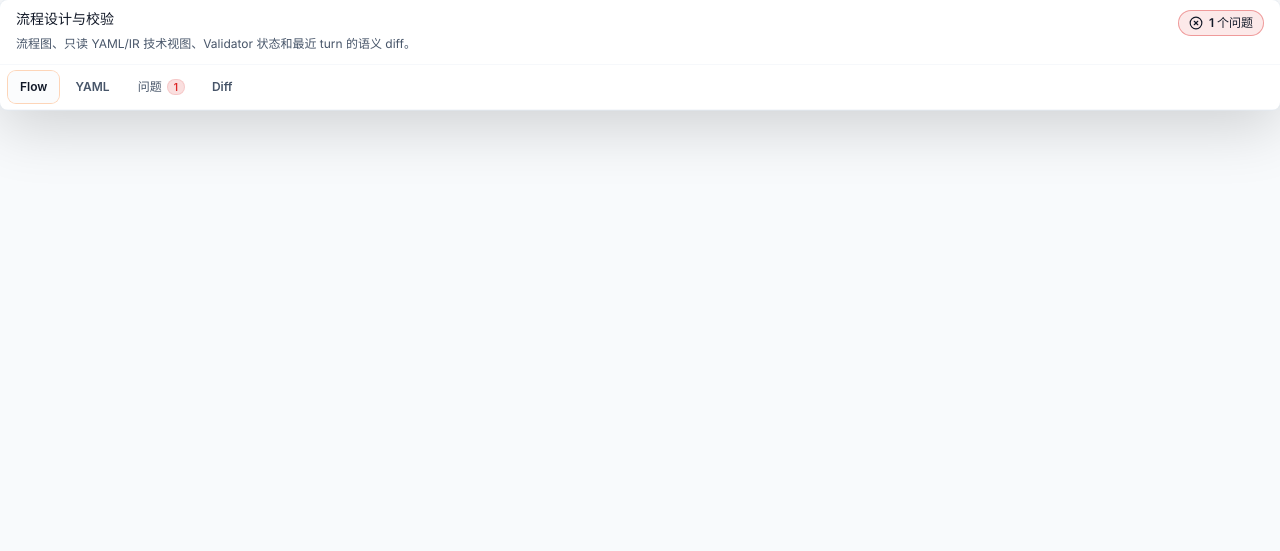
Test: IRColumn › switches between Flow, YAML, Issues, and Diff tabs
Step 1. Click the tab "YAML" → (92, 87), box x1=63 y1=71 x2=122 y2=103
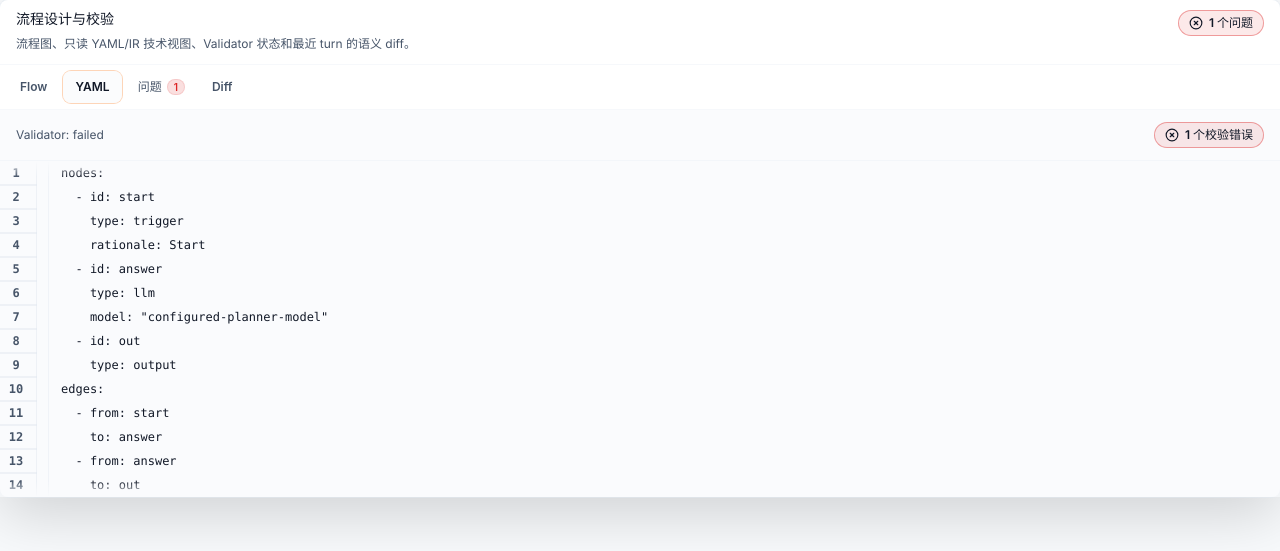
Result: the text "Validator: failed" is shown at x1=16 y1=127 x2=104 y2=143
Step 2. Click the tab "问题 1" → (161, 87), box x1=126 y1=71 x2=196 y2=103
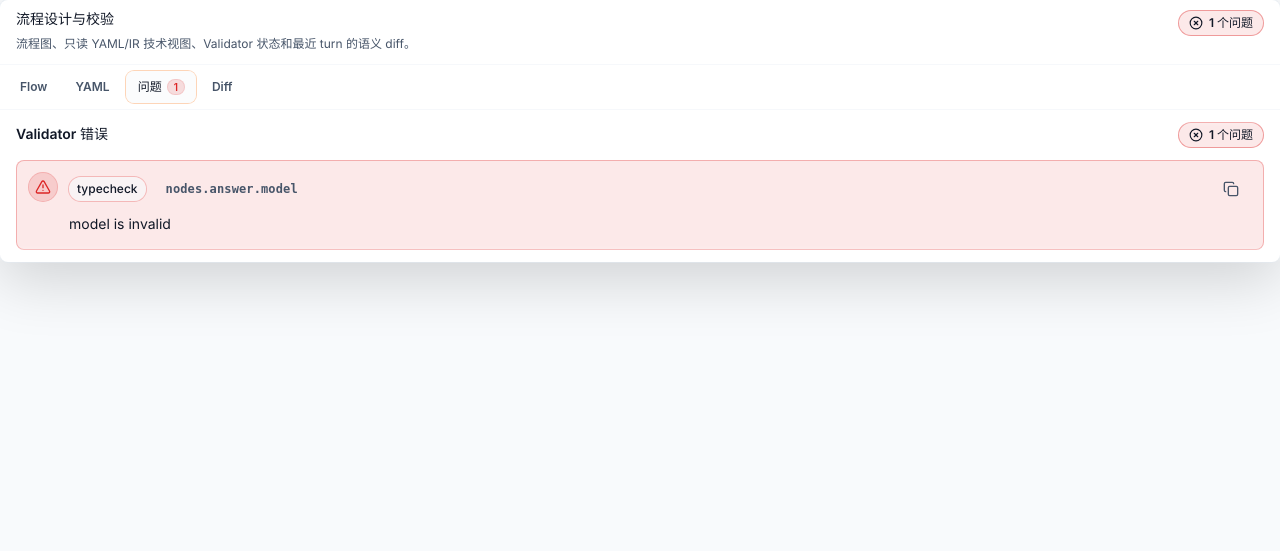
Result: the text "model is invalid" is shown at x1=69 y1=216 x2=171 y2=233
Step 3. Click the tab "Diff" → (222, 87), box x1=200 y1=71 x2=245 y2=103
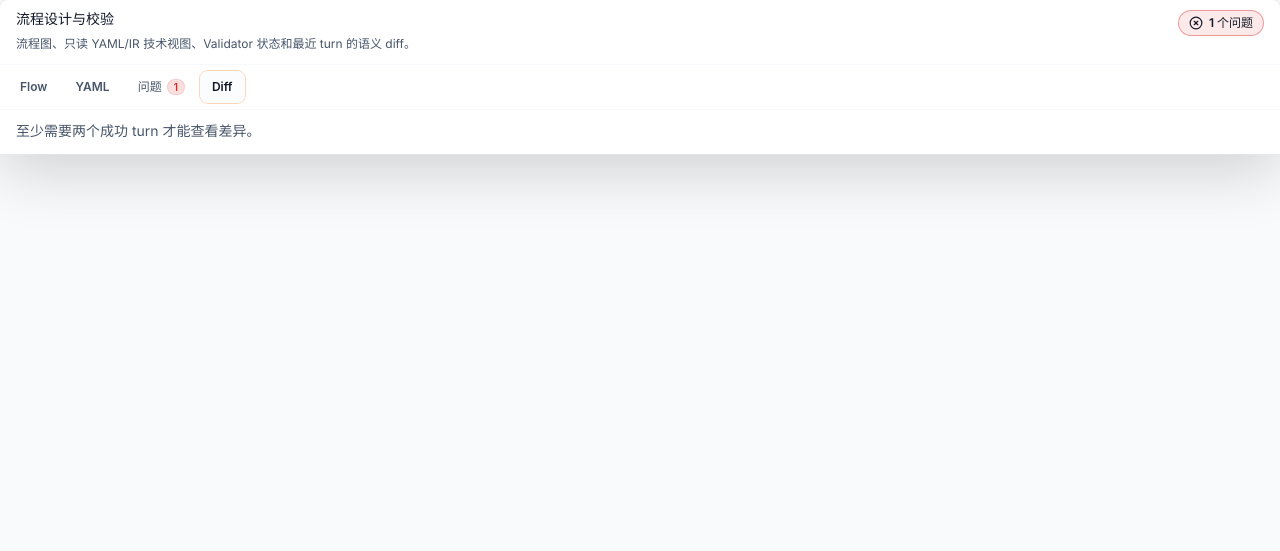
Result: the text "至少需要两个成功 turn 才能查看差异。" is shown at x1=16 y1=123 x2=260 y2=140
